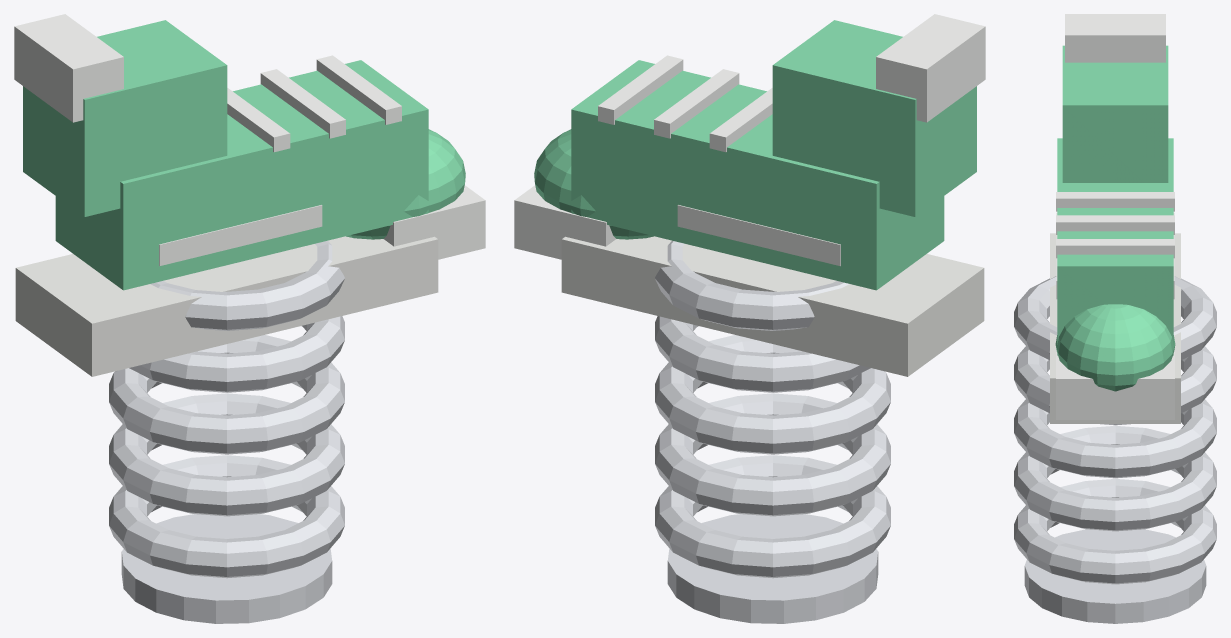
File: boots.glb
3 renders of one model, left to right at view 1: azimuth 30°, elevation 25°; view 2: azimuth 150°, elevation 25°; view 3: azimuth 270°, elevation 25°, orthographic. The views are drawn at different scales.
Parts seen in each view (by area): view 1: item_boots; view 2: item_boots; view 3: item_boots.
Boxes of the visible parts, box(x1,y1,x2,y2) form: item_boots: box(14, 14, 485, 623); item_boots: box(514, 14, 985, 623); item_boots: box(1014, 14, 1216, 623).
Bounding box in the file's own units: 0.4484 × 0.5951 × 0.221.
